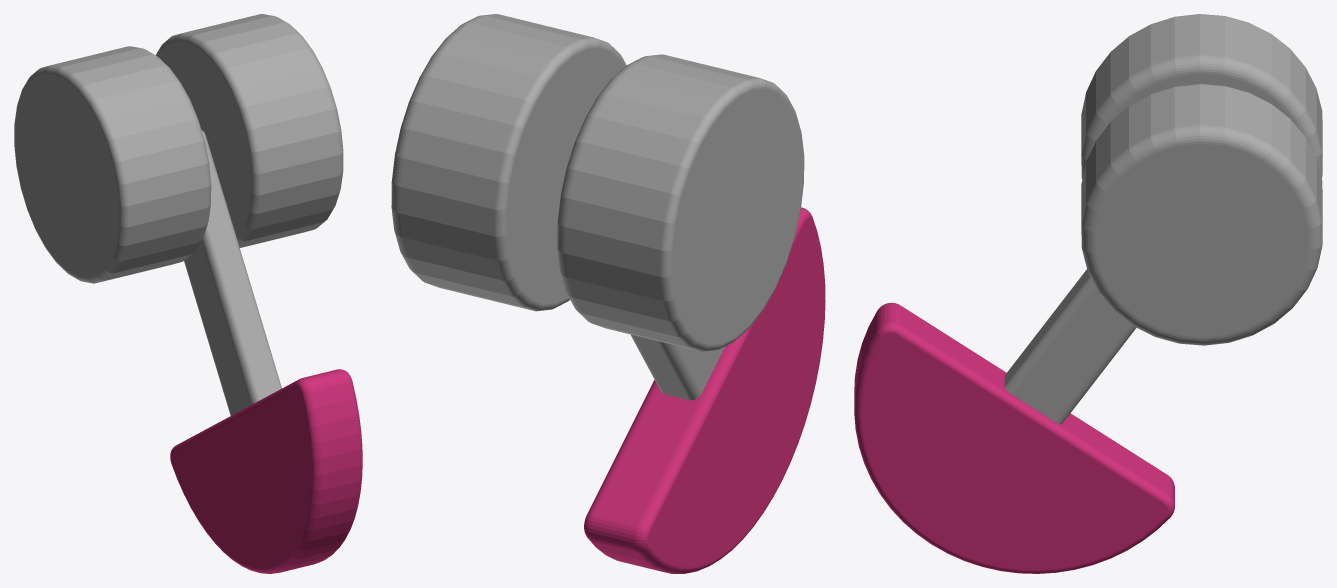
The model's file is Axe_Obstacle.fbx.
The picture shows the model from 3 angles, left to right: view 1: azimuth 30°, elevation 25°; view 2: azimuth 150°, elevation 25°; view 3: azimuth 270°, elevation 25°; orthographic projection. The views are drawn at different scales.
Visible parts, largest first — view 1: Cylinder_9, Cylinder_8, Cylinder_10, Cube_15; view 2: Cylinder_9, Cylinder_8, Cylinder_10, Cube_15; view 3: Cylinder_8, Cylinder_10, Cylinder_9, Cube_15.
Part boxes in pixels (bbox=[...]): Cylinder_9: bbox=[14, 46, 211, 283]; Cylinder_8: bbox=[156, 14, 343, 247]; Cylinder_10: bbox=[170, 369, 362, 573]; Cube_15: bbox=[184, 130, 281, 415]; Cylinder_9: bbox=[557, 54, 804, 351]; Cylinder_8: bbox=[391, 14, 626, 311]; Cylinder_10: bbox=[584, 207, 825, 573]; Cube_15: bbox=[630, 334, 724, 400]; Cylinder_8: bbox=[1081, 84, 1322, 345]; Cylinder_10: bbox=[854, 302, 1174, 573]; Cylinder_9: bbox=[1081, 14, 1322, 179]; Cube_15: bbox=[1004, 269, 1136, 424].
Bounding box in the file's own units: 559 × 1077 × 928.
